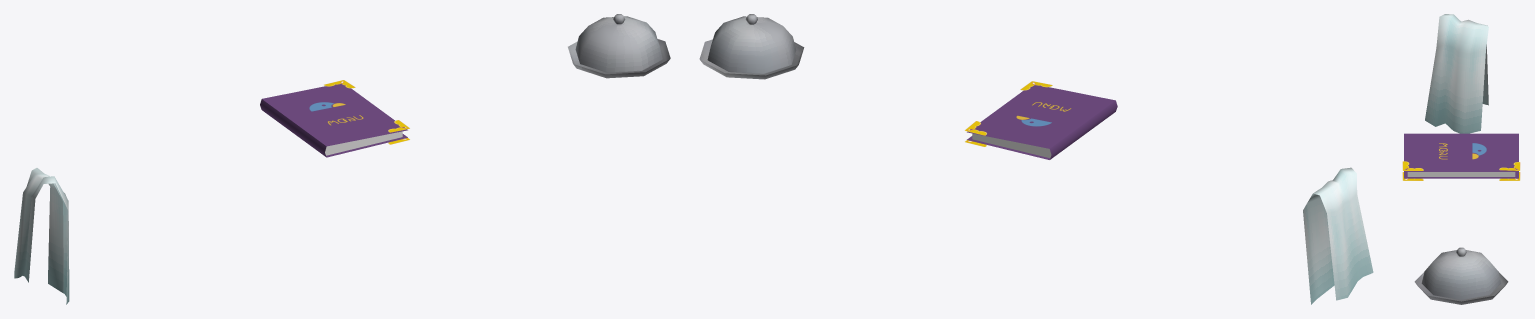
Rendered from Serveware.gltf.
The picture shows the model from 3 angles, left to right: view 1: azimuth 30°, elevation 25°; view 2: azimuth 150°, elevation 25°; view 3: azimuth 270°, elevation 25°; orthographic projection. The views are drawn at different scales.
Visible parts, largest first — view 1: Menu, FoodCloche, TableCloth; view 2: Menu, TableCloth, FoodCloche; view 3: TableCloth, Menu, FoodCloche.
Part boxes in pixels (<box>): Menu: <box>260,80,409,157</box>; FoodCloche: <box>568,14,670,78</box>; TableCloth: <box>14,168,69,304</box>; Menu: <box>965,81,1117,159</box>; TableCloth: <box>1303,167,1373,304</box>; FoodCloche: <box>699,14,804,79</box>; TableCloth: <box>1425,14,1488,133</box>; Menu: <box>1402,133,1520,180</box>; FoodCloche: <box>1414,247,1508,304</box>.
Size of the model in its own units: 1.82 by 0.3827 by 0.327.
Materials: 4 (4 with a texture image).
